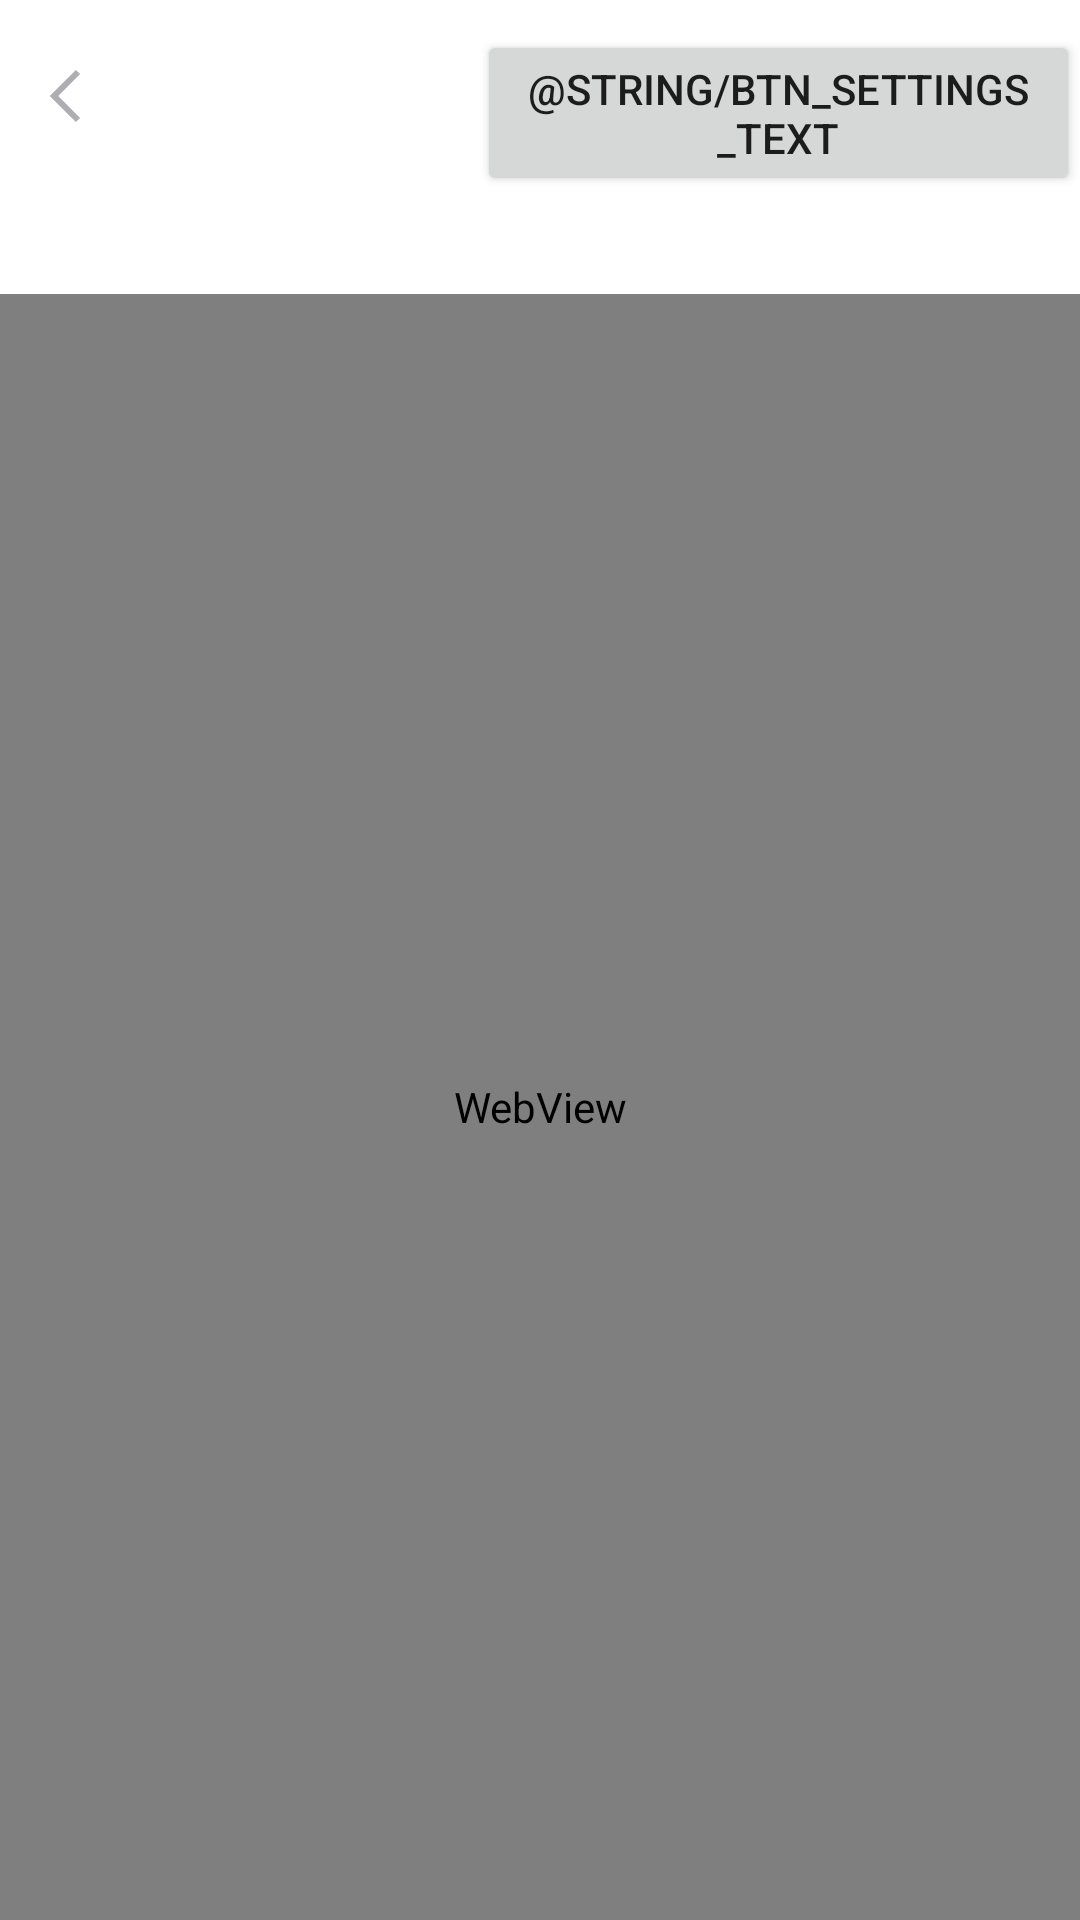

Icons on this 1080 x 1920 Android screen, each with the point to tap as (x,y):
arrow: (65,96)
